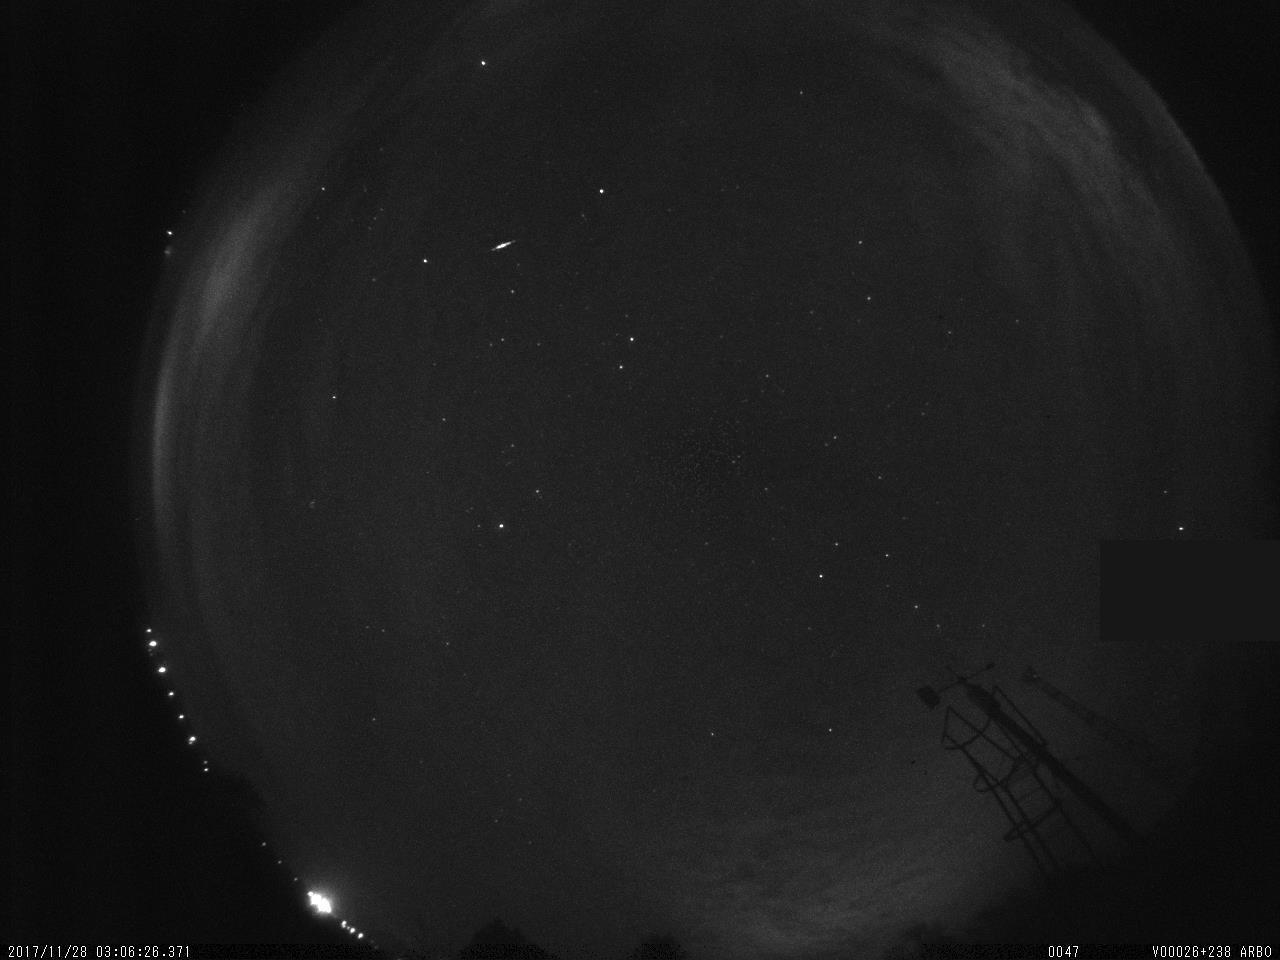meteor: (482, 235, 518, 258)
